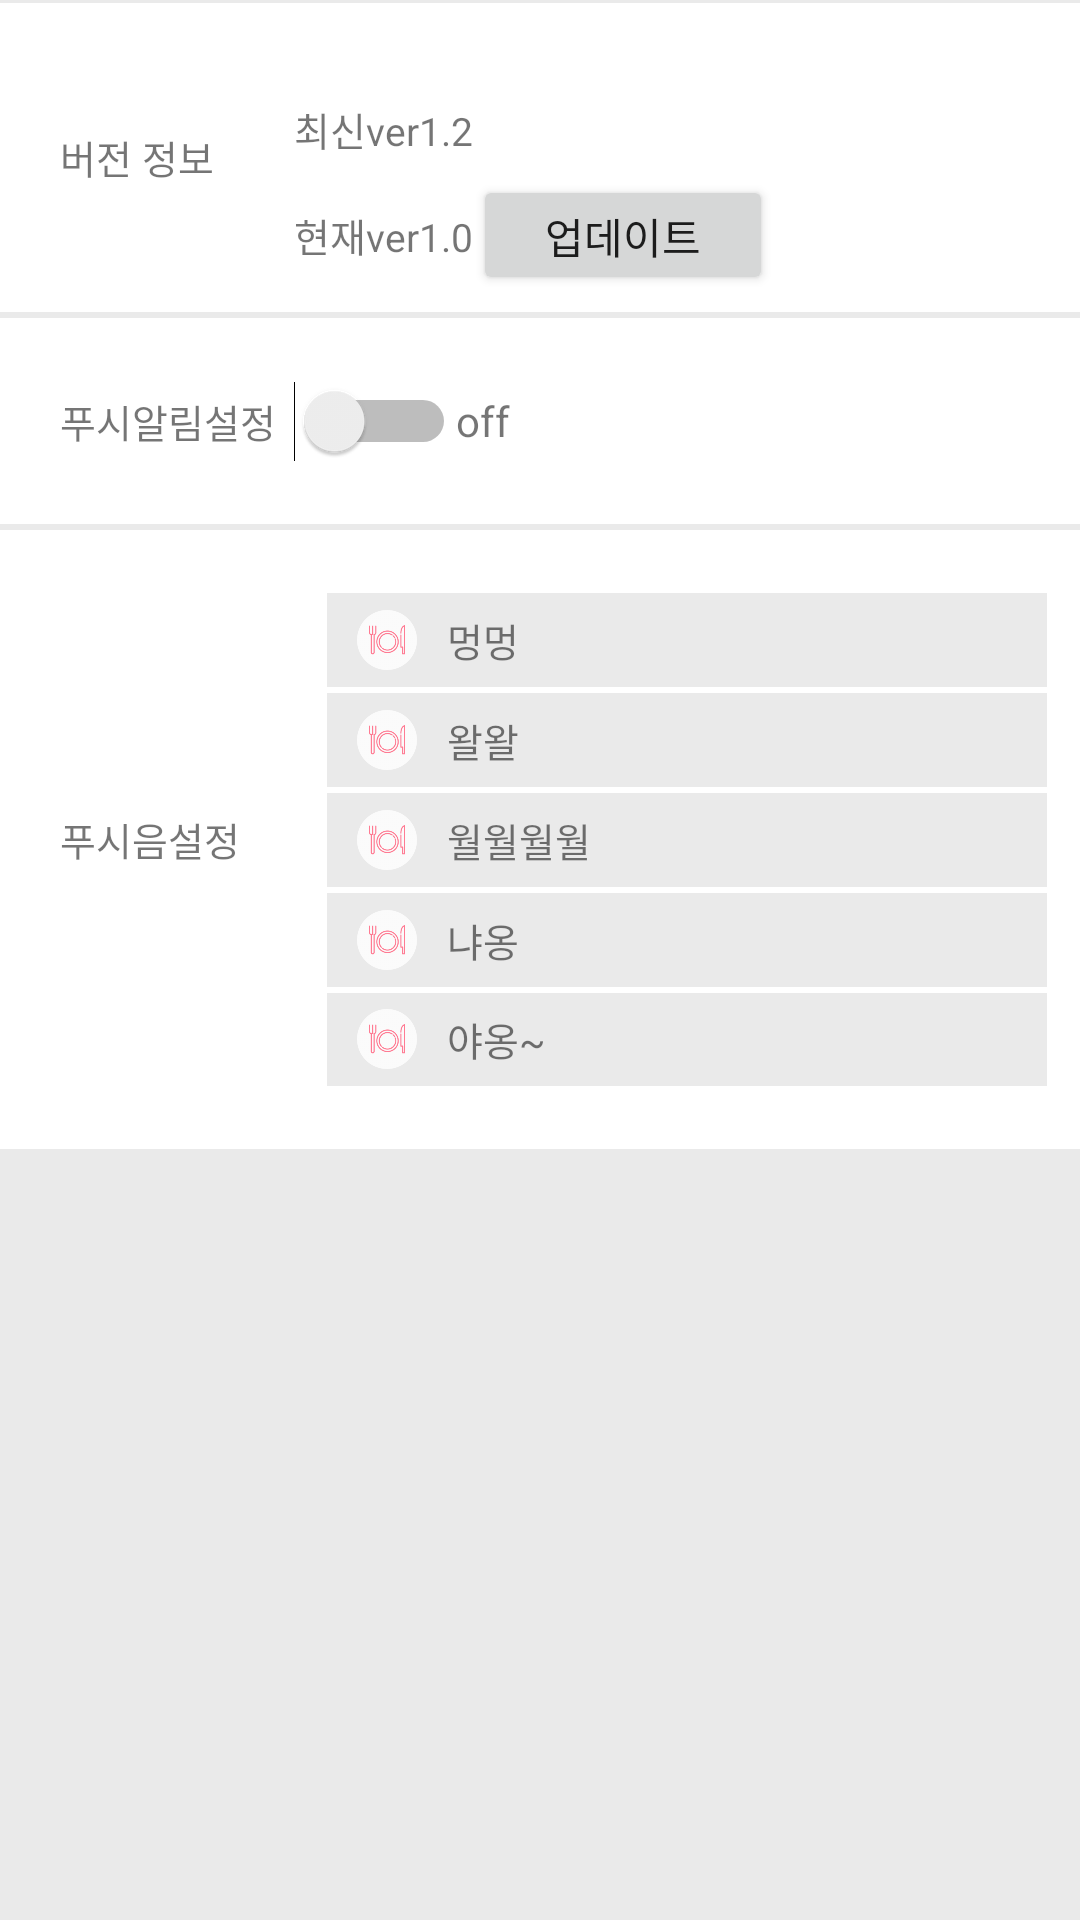

Named icons in this screenshot (1080*1920) and their centers, [x,y]:
food off: [387,640], [387,740], [387,840], [387,940], [387,1039]
